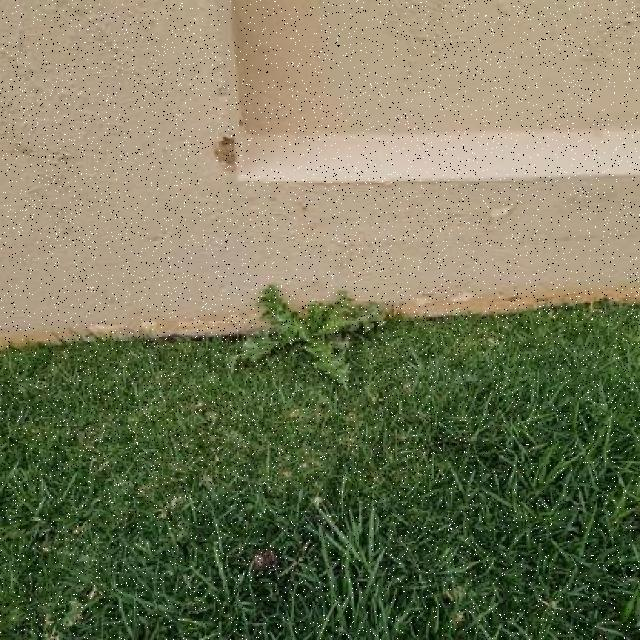weed: (228, 286, 388, 388)
